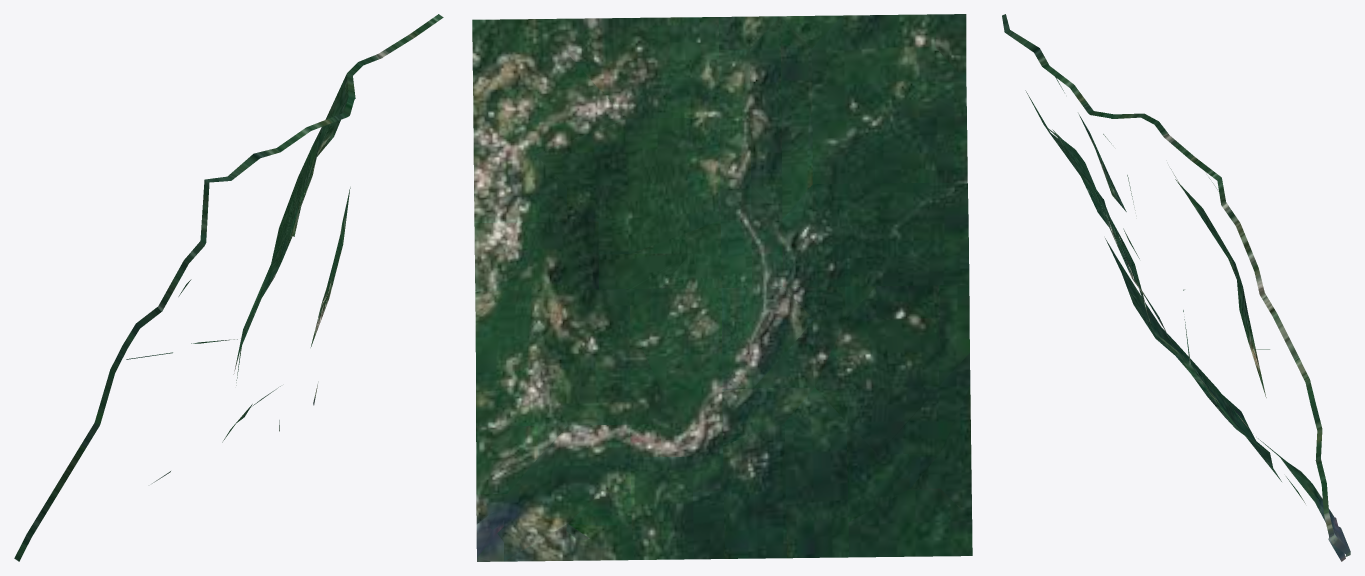
3 views of the same model, side by side, from view 1: azimuth 30°, elevation 25°; view 2: azimuth 150°, elevation 25°; view 3: azimuth 270°, elevation 25° (orthographic). The views are drawn at different scales.
Bounding box in the file's own units: 2473 × 2382 × 1791.
Materials: 1 (1 with a texture image).
